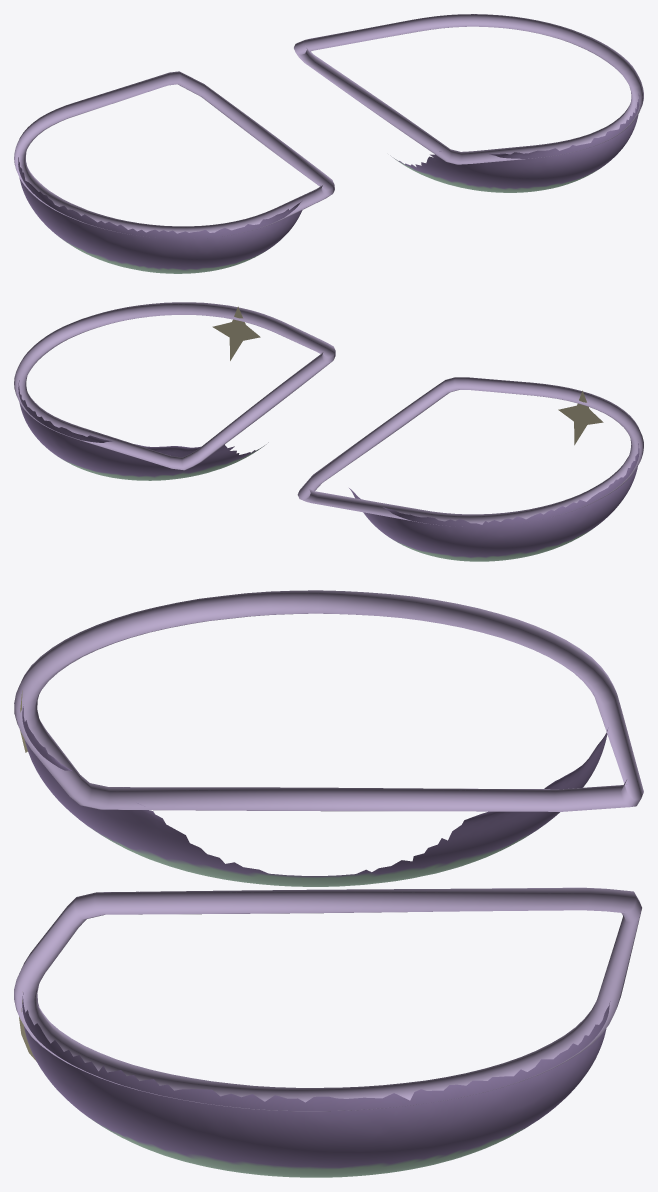
Rendered from 06-boots.glb.
3 renders of one model, top to bottom at view 1: azimuth 30°, elevation 25°; view 2: azimuth 150°, elevation 25°; view 3: azimuth 270°, elevation 25°, orthographic. The views are drawn at different scales.
Parts seen in each view (by area): view 1: boots_left, boots_right; view 2: boots_left, boots_right; view 3: boots_right, boots_left.
Part boxes in pixels (<box>): boots_left: <box>14,71,334,273</box>; boots_right: <box>294,14,643,192</box>; boots_left: <box>297,377,643,561</box>; boots_right: <box>14,302,335,480</box>; boots_right: <box>14,887,641,1177</box>; boots_left: <box>14,590,643,886</box>.
Bounding box in the file's own units: 1.35 × 0.154 × 0.705.
